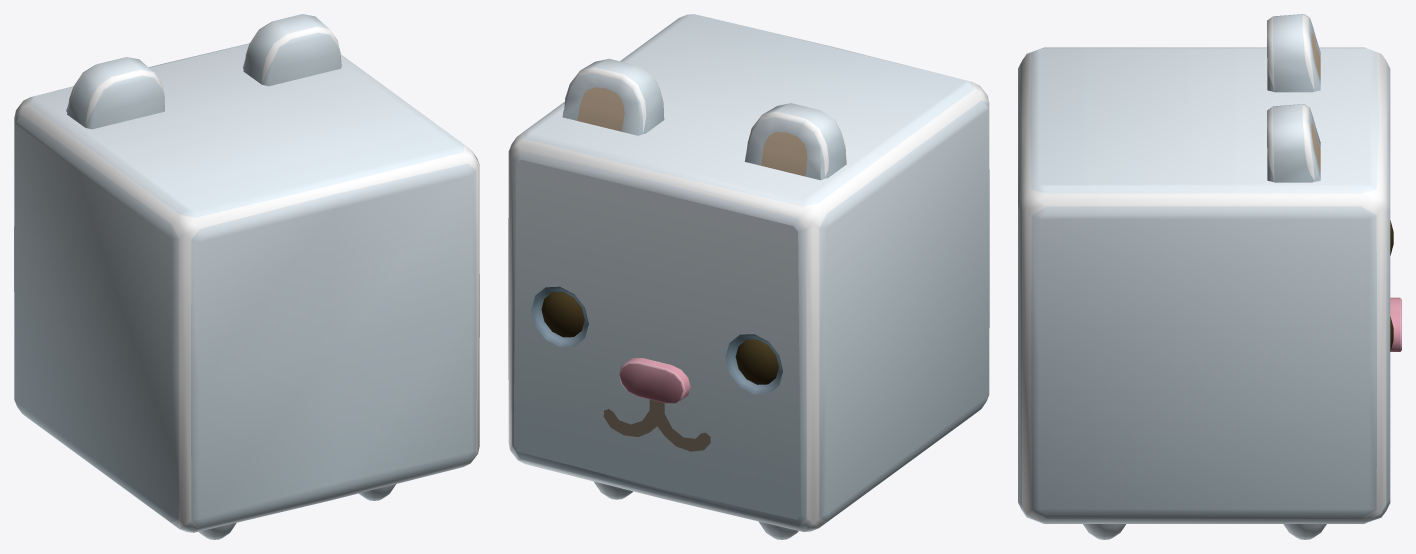
Rendered from Cubimal_SnoConeVendor.fbx.
3 renders of one model, left to right at view 1: azimuth 30°, elevation 25°; view 2: azimuth 150°, elevation 25°; view 3: azimuth 270°, elevation 25°, orthographic. The views are drawn at different scales.
Parts seen in each view (by area): view 1: Body; view 2: Body; view 3: Body, Leg_Right_Back, Leg_Right_Front.
Part boxes in pixels (x1,y1,x2,y2): Body: (14,14,479,532); Body: (508,14,989,531); Body: (1018,14,1401,523); Leg_Right_Back: (1083,524,1125,539); Leg_Right_Front: (1283,524,1326,539).
Size of the model in its own units: 20.09 by 25.63 by 20.71.
